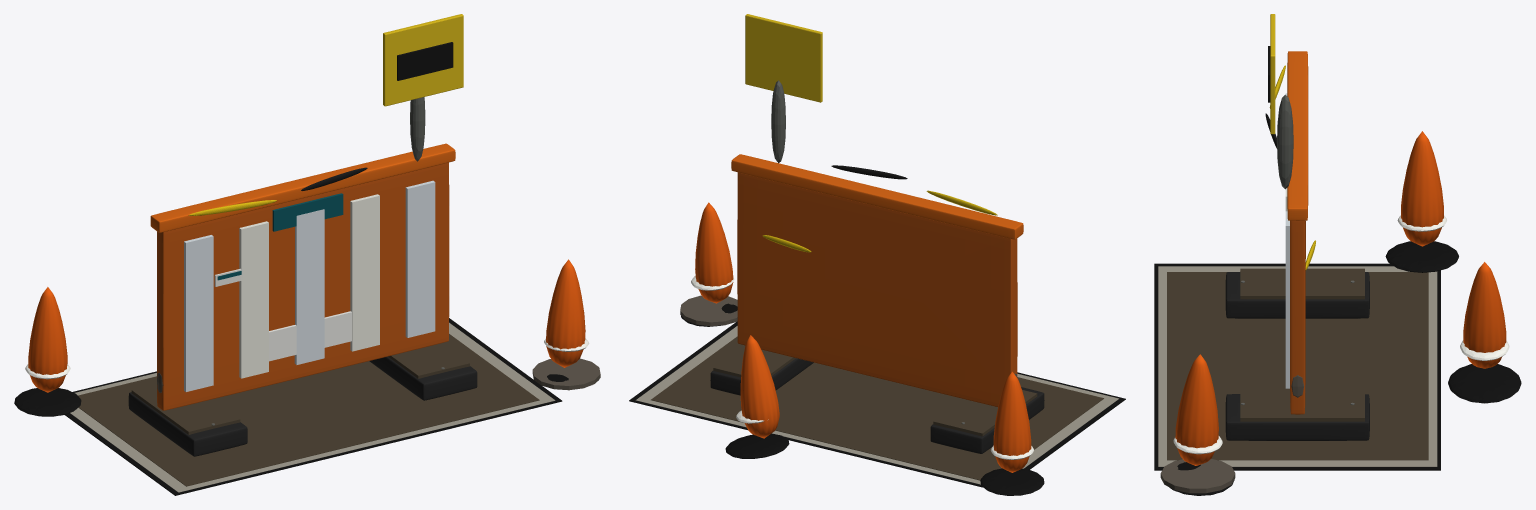
File: hm_prop_barrier_set_v2.obj
The picture shows the model from 3 angles, left to right: view 1: azimuth 30°, elevation 25°; view 2: azimuth 150°, elevation 25°; view 3: azimuth 270°, elevation 25°; orthographic projection. The views are drawn at different scales.
Visible parts, largest first — view 1: Bar_Panel, hm_prop_barrier_set_v2_Dirt, Bar_Rail, Bar_Stripe_4, Bar_TempSign, hm_prop_barrier_set_v2_SaltRing, Bar_Stripe_0, Bar_Stripe_1, Bar_Stripe_3, Bar_Stripe_2, Bar_Cone_1_Body, Bar_Cone_0_Body (+11 smaller); view 2: Bar_Panel, hm_prop_barrier_set_v2_Dirt, Bar_Rail, Bar_TempSign, hm_prop_barrier_set_v2_SaltRing, Bar_Cone_2_Body, Bar_Cone_1_Body, Bar_Cone_0_Body, hm_prop_barrier_set_v2_Shadow, Bar_Mud_-1, Bar_Foot_-1, Bar_Cone_0_Base (+5 smaller); view 3: hm_prop_barrier_set_v2_Dirt, hm_prop_barrier_set_v2_SaltRing, Bar_Mud_1, hm_prop_barrier_set_v2_Shadow, Bar_Foot_1, Bar_Cone_0_Body, Bar_Mud_-1, Bar_Cone_1_Body, Bar_Rail, Bar_Cone_2_Body, Bar_Foot_-1, Bar_Panel (+7 smaller).
Part boxes in pixels (x1,y1,x2,y2): Bar_Panel: (157,162,449,410); hm_prop_barrier_set_v2_Dirt: (78,334,539,486); Bar_Rail: (150,143,455,232); Bar_Stripe_4: (405,180,435,337); Bar_TempSign: (383,14,463,106); hm_prop_barrier_set_v2_SaltRing: (70,322,555,492); Bar_Stripe_0: (184,235,213,391); Bar_Stripe_1: (239,221,268,378); Bar_Stripe_3: (350,194,379,351); Bar_Stripe_2: (294,209,324,364); Bar_Cone_1_Body: (546,259,585,367); Bar_Cone_0_Body: (28,287,67,392); Bar_Panel: (737,172,1017,406); hm_prop_barrier_set_v2_Dirt: (651,336,1103,480); Bar_Rail: (731,154,1023,239); Bar_TempSign: (745,14,822,102); hm_prop_barrier_set_v2_SaltRing: (635,326,1118,484); Bar_Cone_2_Body: (740,335,779,438); Bar_Cone_1_Body: (695,202,733,303); Bar_Cone_0_Body: (993,371,1031,472); hm_prop_barrier_set_v2_Shadow: (629,321,1125,487); Bar_Mud_-1: (933,390,1037,436); Bar_Foot_-1: (930,387,1044,453); Bar_Cone_0_Base: (980,468,1044,495); hm_prop_barrier_set_v2_Dirt: (1167,272,1428,460); hm_prop_barrier_set_v2_SaltRing: (1158,266,1437,466); Bar_Mud_1: (1240,390,1364,421); hm_prop_barrier_set_v2_Shadow: (1154,263,1440,470); Bar_Foot_1: (1225,394,1369,440); Bar_Cone_0_Body: (1401,131,1443,246); Bar_Mud_-1: (1240,268,1364,299); Bar_Cone_1_Body: (1175,354,1218,465); Bar_Rail: (1287,51,1308,220); Bar_Cone_2_Body: (1463,262,1506,368); Bar_Foot_-1: (1225,272,1369,318); Bar_Panel: (1290,220,1305,414).
Bounding box in the file's own units: 2.39 × 1.73 × 1.47.
